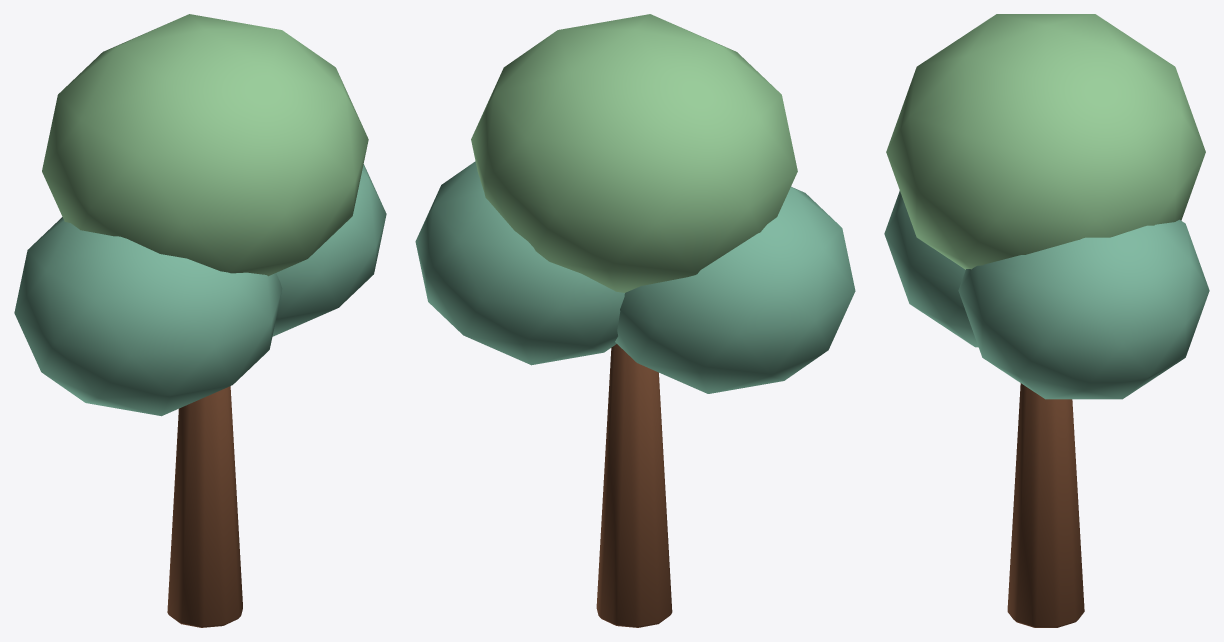
The picture shows the model from 3 angles, left to right: view 1: azimuth 30°, elevation 25°; view 2: azimuth 150°, elevation 25°; view 3: azimuth 270°, elevation 25°; orthographic projection.
Parts seen in each view (by area): view 1: Pine_Puff_2, coastal_pine, Pine_Trunk; view 2: Pine_Puff_2, coastal_pine, Pine_Trunk; view 3: Pine_Puff_2, coastal_pine, Pine_Trunk.
Part boxes in pixels (<box>): Pine_Puff_2: <box>42,14,368,276</box>; coastal_pine: <box>14,164,386,416</box>; Pine_Trunk: <box>167,386,242,627</box>; Pine_Puff_2: <box>471,14,797,292</box>; coastal_pine: <box>415,161,855,393</box>; Pine_Trunk: <box>596,344,672,627</box>; Pine_Puff_2: <box>886,14,1205,269</box>; coastal_pine: <box>884,190,1209,399</box>; Pine_Trunk: <box>1007,383,1084,627</box>.
Size of the model in its own units: 2.69 by 4.09 by 2.05.
